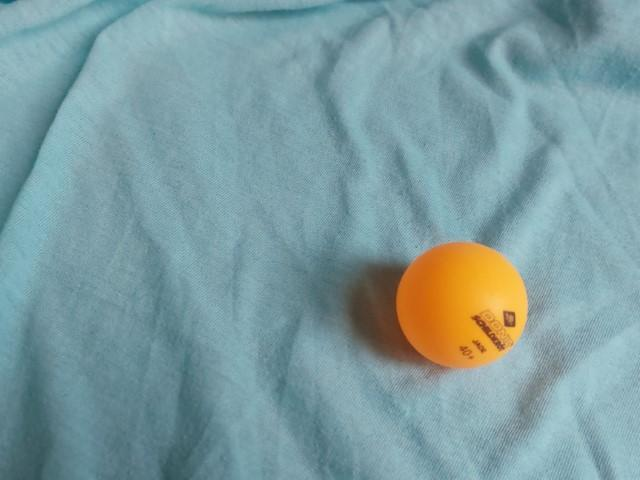oball: (391, 235, 536, 378)
